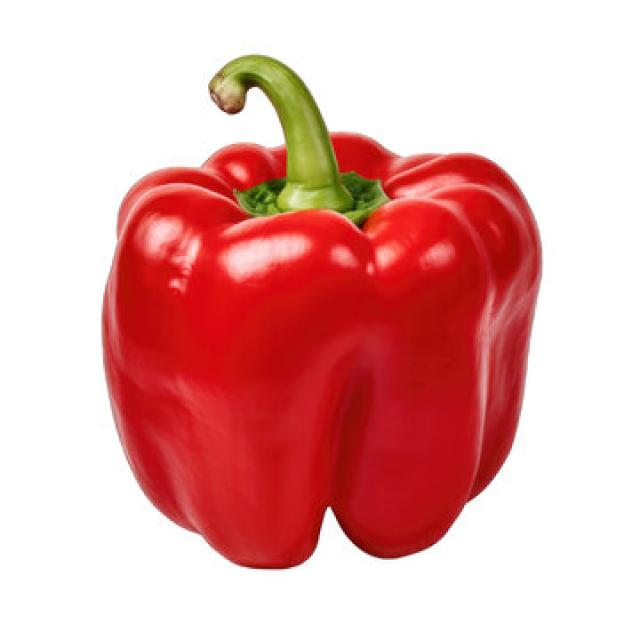Bell Pepper: (100, 51, 542, 569)
